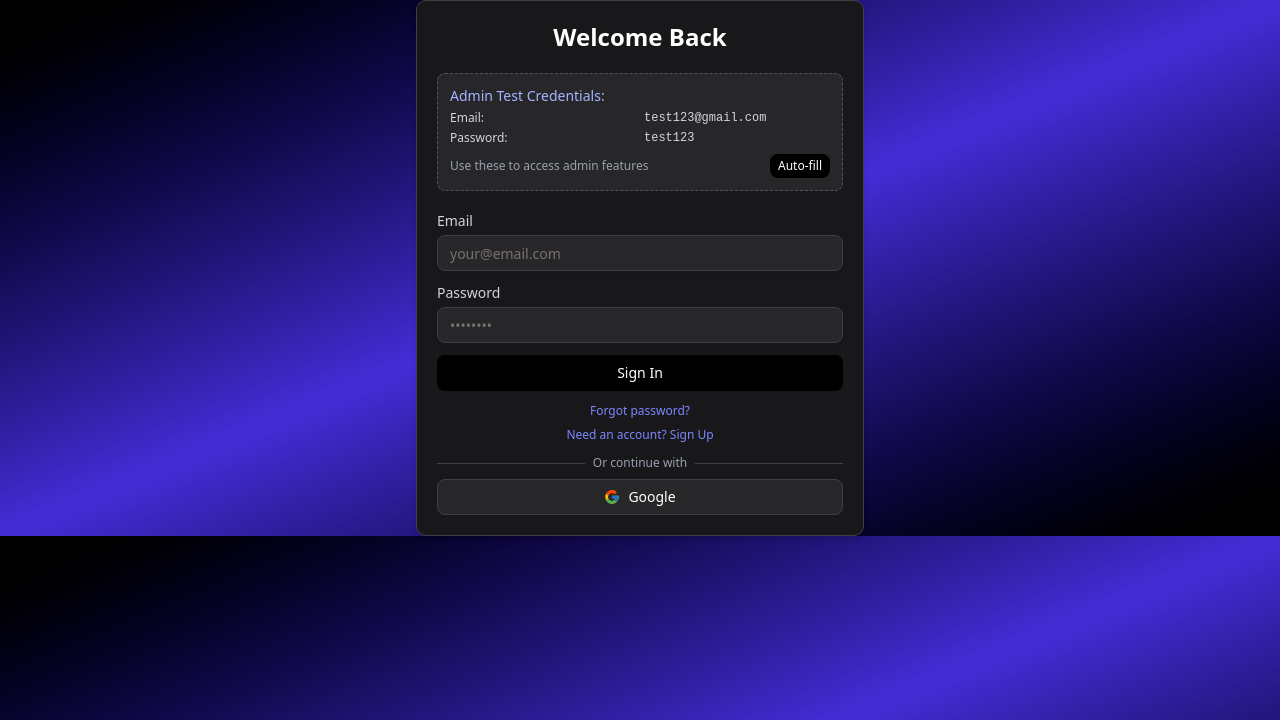
Test: LoginForm › shows validation errors
What coordinates should you click on to do the following:
click the button "Sign In"
I would click on:
 (640, 373)
Its box is x1=437 y1=355 x2=843 y2=391.
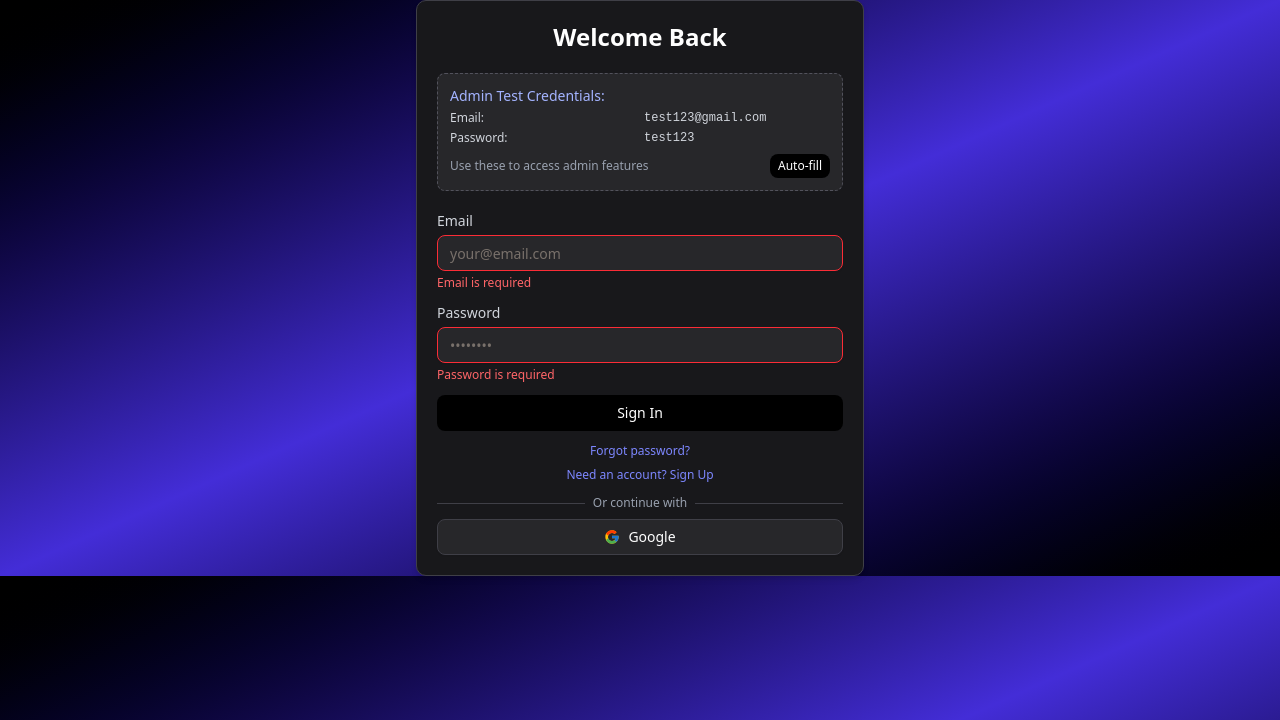
Expected: the text "Email is required" is shown, x1=437 y1=274 x2=531 y2=291
Expected: the text "Password is required" is shown, x1=437 y1=366 x2=555 y2=383
